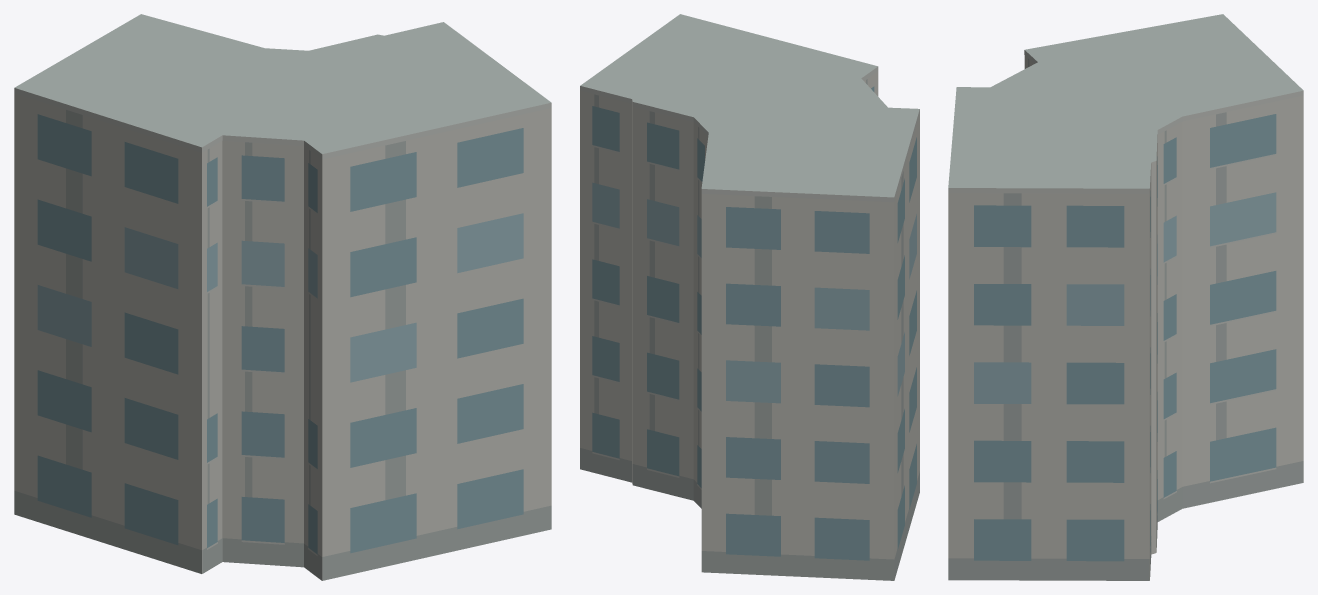
File: survey-upis-32459062.glb
The picture shows the model from 3 angles, left to right: view 1: azimuth 30°, elevation 25°; view 2: azimuth 150°, elevation 25°; view 3: azimuth 270°, elevation 25°; orthographic projection. The views are drawn at different scales.
Parts seen in each view (by area): view 1: survey-upis-32459062.tmp; view 2: survey-upis-32459062.tmp; view 3: survey-upis-32459062.tmp.
Boxes of the visible parts, x1,y1,x2,y2 form: survey-upis-32459062.tmp: [14, 14, 551, 580]; survey-upis-32459062.tmp: [580, 14, 919, 580]; survey-upis-32459062.tmp: [948, 14, 1303, 580].
Bounding box in the file's own units: 18.07 × 18.9 × 15.54.
